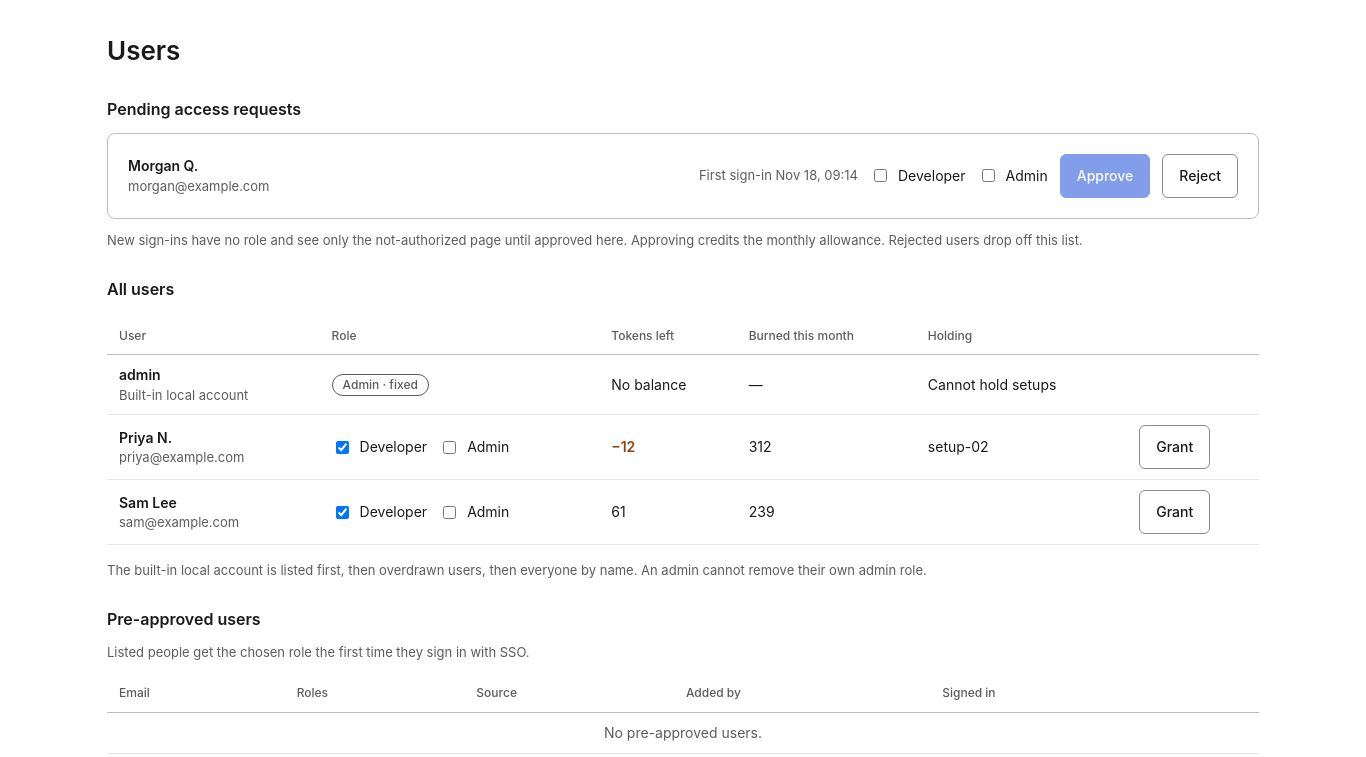
Scenario: ADM-1 role changes › shows the self_demote refusal as a message
Check: the table named "Users" is shown, box [107,317,1259,545]
Click the checkbox labelled "Admin" in the row of "Sam Lee" at point(450, 512), box [443,506,456,519]
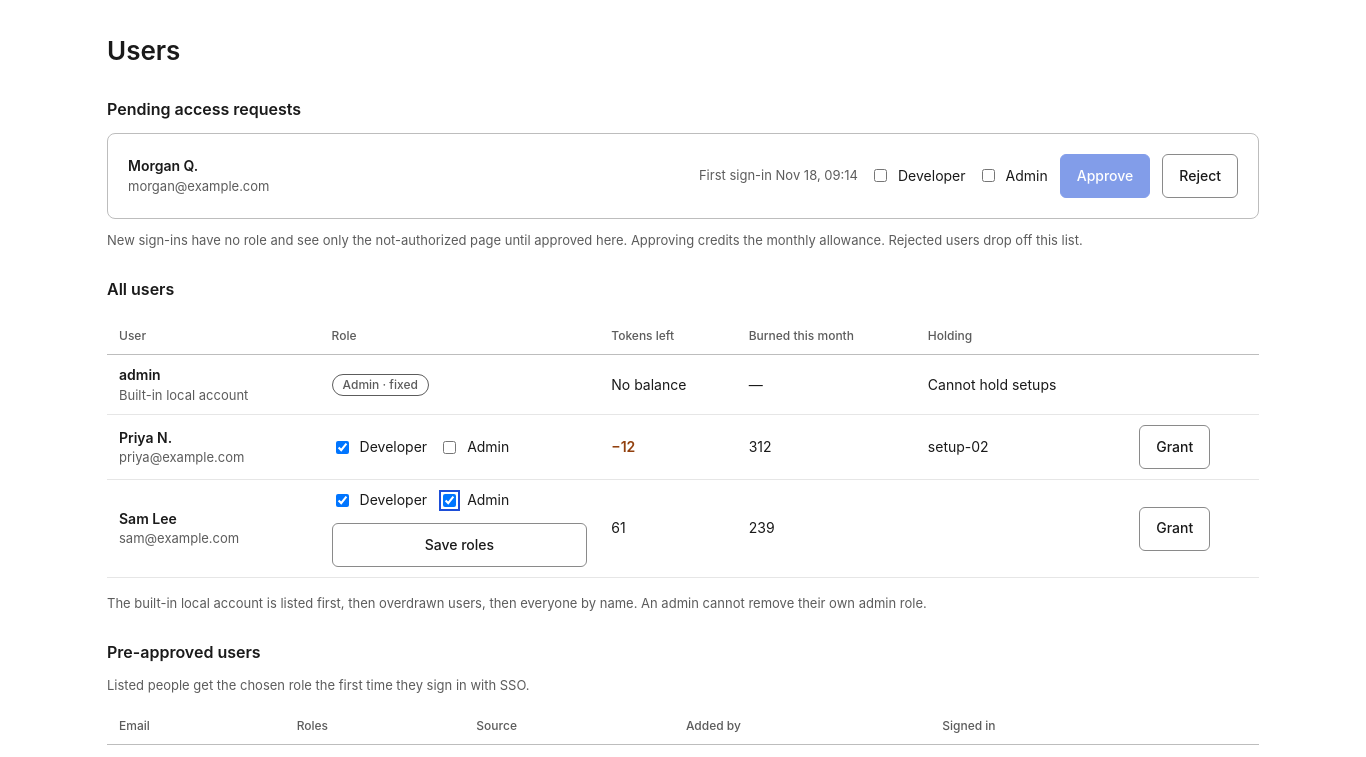
Click the button with aria-label "Save roles for Sam Lee" at point(459, 545), box [332,523,587,567]
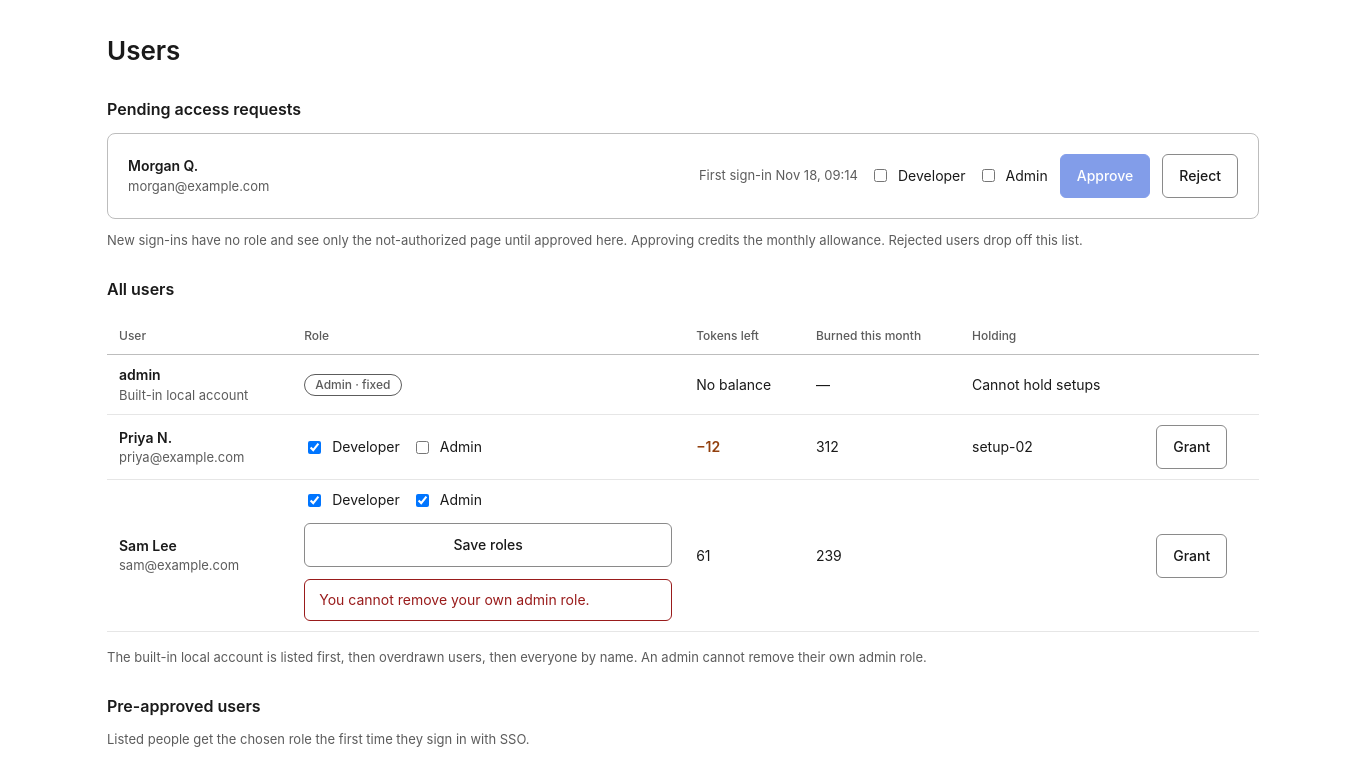
Check: the text "You cannot remove your own admin role." is shown, box [304,579,672,621]
